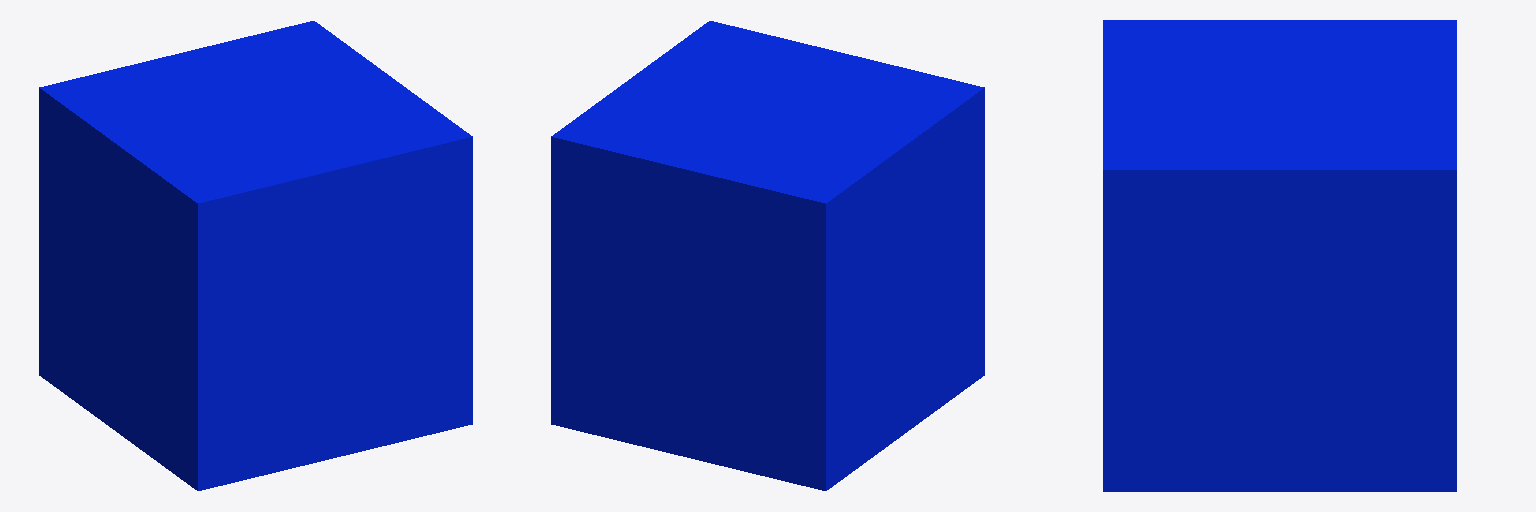
robot.urdf — parttoolgen_brush_sweep_block_036:
<?xml version="1.0"?>
<robot name="parttoolgen_brush_sweep_block_036">
  <link name="sweep_block">
    <visual>
      <material name="sweep_block_blue">
        <color rgba="0.05 0.20 0.95 1.0"/>
      </material>
      <origin xyz="0 0 0"/>
      <geometry>
        <box size="0.036 0.036 0.036"/>
      </geometry>
    </visual>
    <collision>
      <origin xyz="0 0 0"/>
      <geometry>
        <box size="0.036 0.036 0.036"/>
      </geometry>
    </collision>
    <inertial>
      <mass value="0.05"/>
      <inertia ixx="0.0000108" ixy="0.0" ixz="0.0" iyy="0.0000108" iyz="0.0" izz="0.0000108"/>
    </inertial>
  </link>
</robot>

--- Facts derived from the render (not from the file) ---
Views: 3 orthographic renders of the robot side by side, from view 1: azimuth 30°, elevation 25°; view 2: azimuth 150°, elevation 25°; view 3: azimuth 270°, elevation 25°.
Model parttoolgen_brush_sweep_block_036 with 1 links and 0 joints (none), rooted at sweep_block, posed all joints at 0.
Visible links, largest first — view 1: sweep_block; view 2: sweep_block; view 3: sweep_block.
Boxes of the visible links, x1,y1,x2,y2 form: sweep_block: (39, 21, 472, 490); sweep_block: (551, 21, 984, 490); sweep_block: (1103, 20, 1456, 491).
Bounding box of the posed robot: 0.036 × 0.036 × 0.036 m (x, y, z).
Geometry: primitives only (box / cylinder / sphere), no mesh files.
